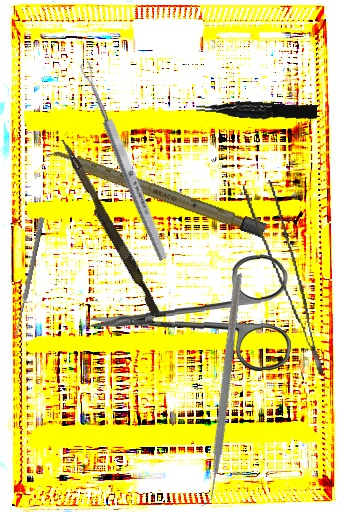Chopper: (111, 272, 324, 511)
Iris Scissors: (87, 253, 292, 377)
Pusher: (53, 137, 165, 317)
Scalpel Handle: (44, 144, 268, 239)
Surgical Spoon: (77, 60, 171, 262), (13, 216, 45, 338)
Tissue Forceps: (242, 177, 324, 382), (195, 94, 318, 125)
